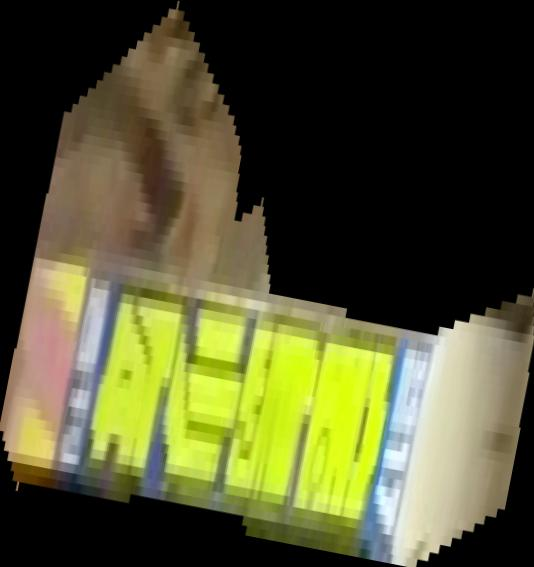flat: (1, 1, 534, 567)
